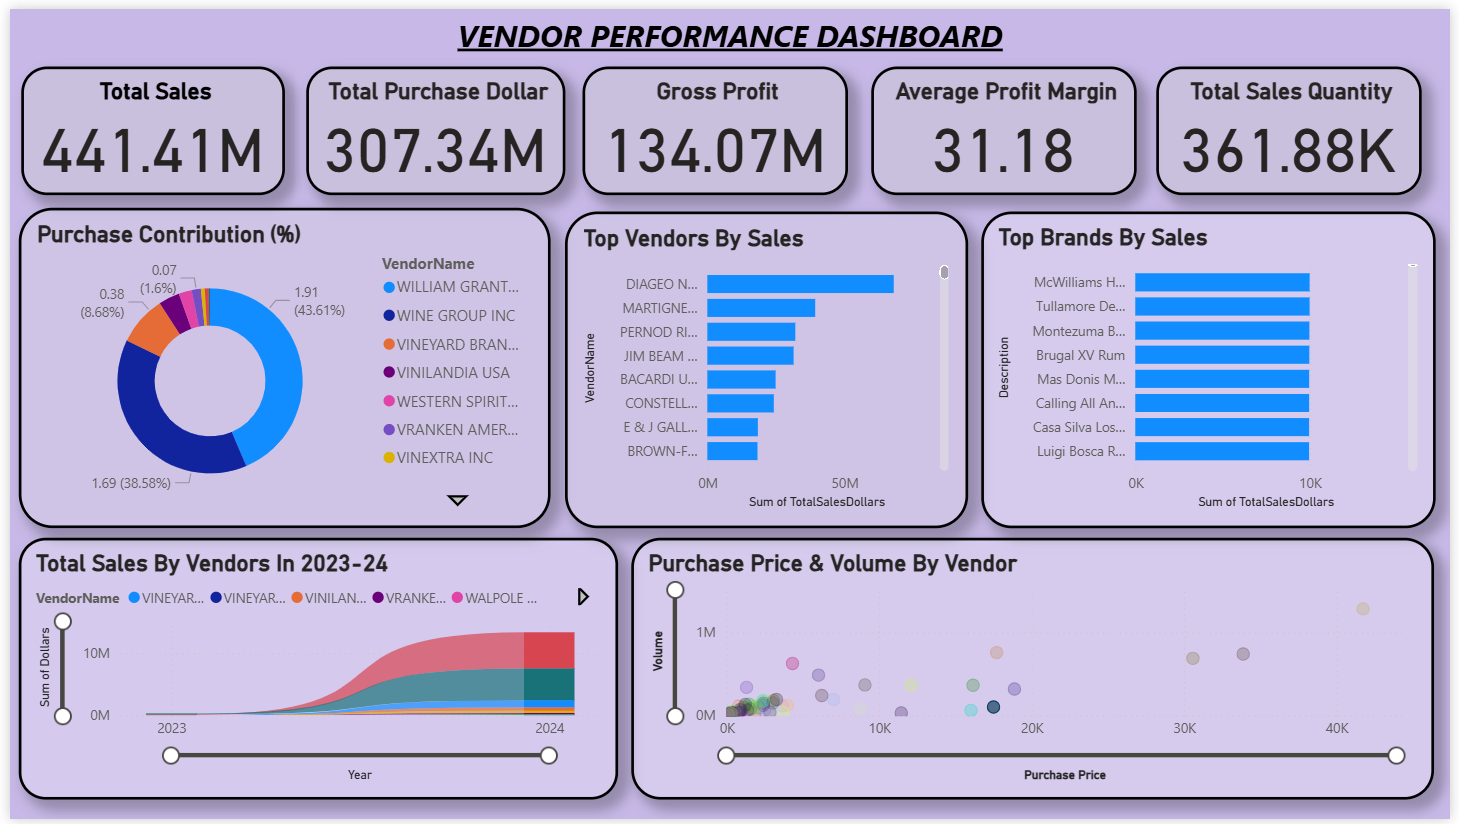

This screenshot's page, from the dashboard's own definition file:
{"tool":"powerbi","page":{"name":"Page 1","canvas":[1280,720],"ordinal":0},"visuals":[{"type":"textbox","box":[0,0,1280.3,81],"z":0},{"type":"card","title":"Total Sales","fields":{"Values":["Sum(vendor_performance.TotalSalesDollars)"]},"box":[10,51.4,234.3,114.3],"z":1000},{"type":"card","title":"Total Purchase Dollar","fields":{"Values":["Sum(vendor_performance.TotalPurchaseDollars)"]},"box":[262.9,51.4,230,114.3],"z":2000},{"type":"card","title":"Gross Profit ","fields":{"Values":["Sum(vendor_performance.GrossProfit)"]},"box":[508.6,51.4,235.7,114.3],"z":3000},{"type":"card","title":"Average Profit Margin","fields":{"Values":["Avg(top_vendors.ProfitMargin)"]},"box":[765.7,51.4,235.7,114.3],"z":4000},{"type":"card","title":"Total Sales Quantity","fields":{"Values":["Sum(summary_stats.TotalSalesQuantity)"]},"box":[1018.6,51.4,235.7,114.3],"z":5000},{"type":"donutChart","title":"Purchase Contribution (%)","fields":{"Y":["Sum(vendor_performance.PurchaseContribution%)"],"Category":["vendor_performance.VendorName"]},"box":[7.5,176.2,472.5,285],"z":6000},{"type":"clusteredBarChart","title":"Top Brands By Sales","fields":{"Category":["brand_performance.Description"],"Y":["Sum(brand_performance.TotalSalesDollars)"]},"box":[862.9,180,404.3,281.4],"z":7000},{"type":"clusteredBarChart","title":"Top Vendors By Sales","fields":{"Category":["vendor_performance.VendorName"],"Y":["Sum(vendor_performance.TotalSalesDollars)"]},"box":[492.9,180,358.6,281.4],"z":8000},{"type":"scatterChart","title":"Purchase Price &  Volume By Vendor","fields":{"X":["Sum(purchase_prices.PurchasePrice)"],"Y":["Sum(purchase_prices.Volume)"],"Category":["purchase_prices.VendorName"]},"box":[552.5,470,713.8,232.5],"z":9000},{"type":"ribbonChart","title":"Total Sales By Vendors In 2023-24","fields":{"Category":["vendor_invoice.PODate.Variation.Date Hierarchy.Year","vendor_invoice.PODate.Variation.Date Hierarchy.Quarter","vendor_invoice.PODate.Variation.Date Hierarchy.Month","vendor_invoice.PODate.Variation.Date Hierarchy.Day"],"Y":["Sum(vendor_invoice.Dollars)"],"Series":["vendor_invoice.VendorName"]},"box":[7.5,470,532.5,232.5],"z":10000}]}

Visuals, with their boxes in screenshot pixels (x1, y1, x2, y2), scaled from the page's 1280x720 canvas onto the 1459x824 screenshot:
textbox: Rect(0, 0, 1458, 93)
"Total Sales" card: Rect(11, 59, 278, 190)
"Total Purchase Dollar" card: Rect(300, 59, 562, 190)
"Gross Profit " card: Rect(580, 59, 848, 190)
"Average Profit Margin" card: Rect(873, 59, 1141, 190)
"Total Sales Quantity" card: Rect(1161, 59, 1430, 190)
"Purchase Contribution (%)" donutChart: Rect(9, 202, 547, 528)
"Top Brands By Sales" clusteredBarChart: Rect(984, 206, 1444, 528)
"Top Vendors By Sales" clusteredBarChart: Rect(562, 206, 971, 528)
"Purchase Price &  Volume By Vendor" scatterChart: Rect(630, 538, 1443, 804)
"Total Sales By Vendors In 2023-24" ribbonChart: Rect(9, 538, 616, 804)
